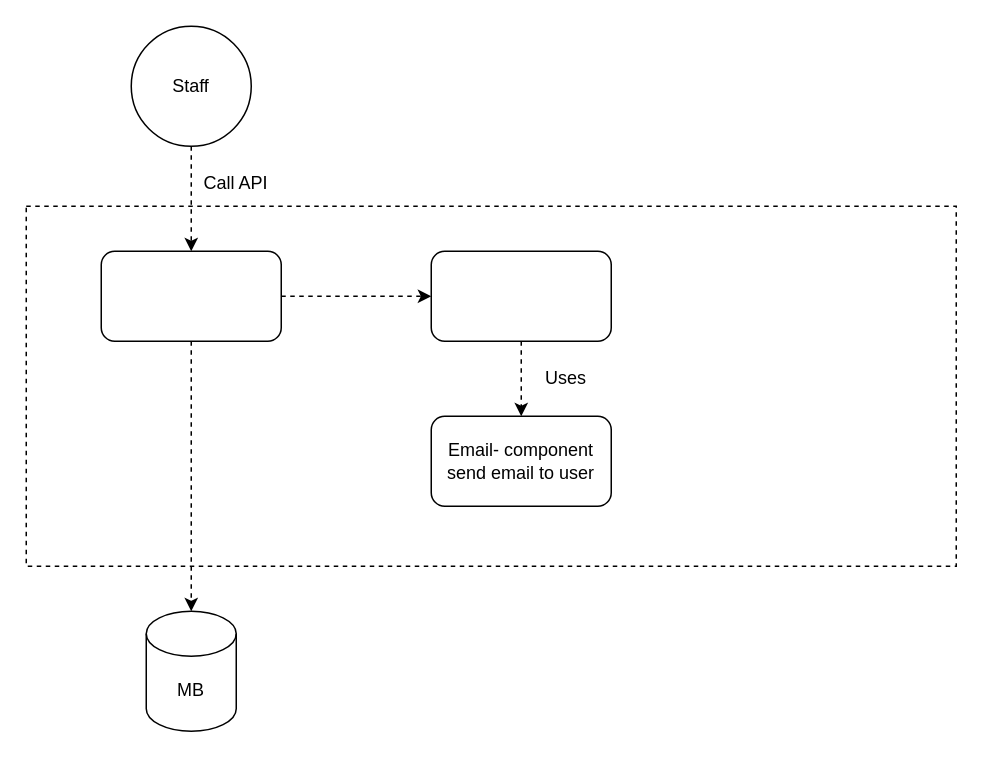
Some shapes in this 983 by 758 pixel diagram are drawn without their labels. Each missing label, with the centre of its shape:
"Reset password allow user reset password" goes at pixel 520 295.
"Sign in allow user sign in with id and password" goes at pixel 190 295.
